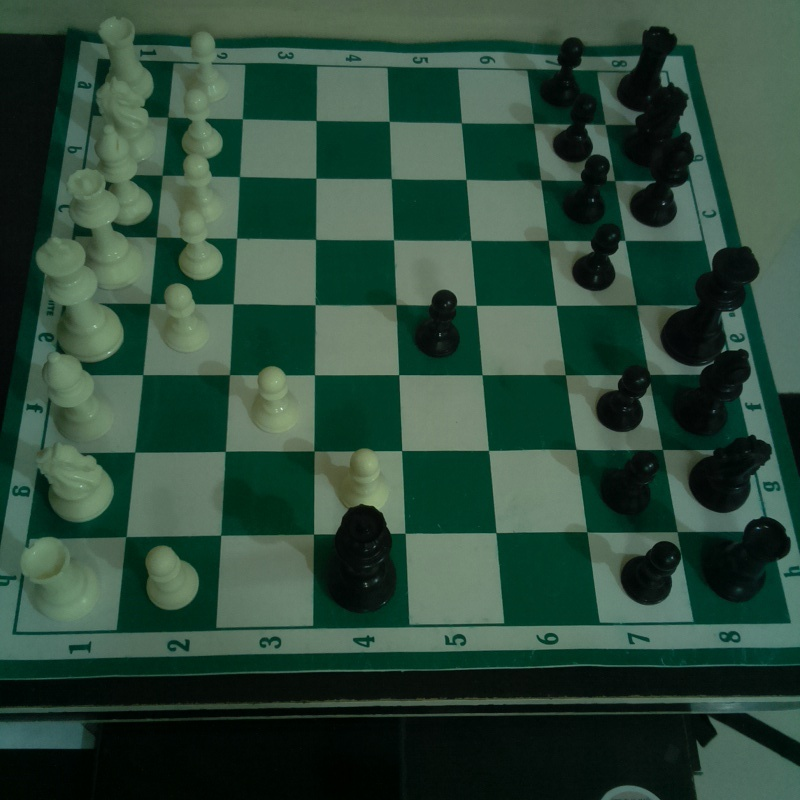black-bishop: (675, 348, 752, 430), (629, 130, 693, 227)
black-king: (660, 242, 759, 365)
black-knight: (686, 434, 773, 512), (622, 82, 686, 166)
black-pawn: (619, 539, 681, 606), (569, 219, 621, 292), (596, 364, 650, 434), (600, 452, 658, 517), (414, 287, 465, 358), (540, 36, 586, 105), (565, 155, 610, 221), (552, 93, 595, 162)
black-queen: (326, 504, 401, 614)
black-rook: (701, 515, 790, 603), (615, 22, 677, 111)
white-bishop: (41, 351, 119, 440), (96, 126, 154, 225)
white-king: (36, 236, 126, 361)
white-knight: (34, 444, 116, 524), (97, 77, 160, 163)
white-pawn: (146, 544, 201, 611), (161, 282, 213, 352), (249, 362, 299, 433), (183, 31, 230, 104), (341, 450, 392, 517), (175, 209, 222, 280), (178, 154, 223, 225), (178, 90, 223, 159)
white-queen: (66, 166, 147, 293)
white-rook: (19, 536, 102, 618), (95, 13, 154, 101)
